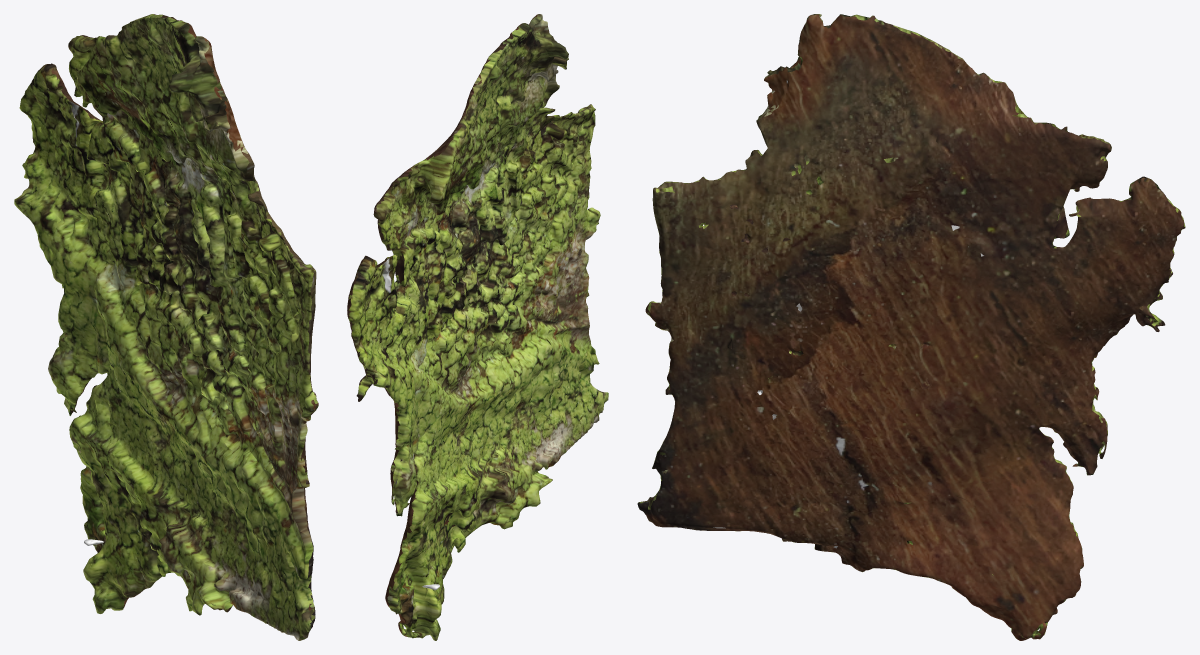
Rendered from Liquen 7.glb.
3 renders of one model, left to right at view 1: azimuth 30°, elevation 25°; view 2: azimuth 150°, elevation 25°; view 3: azimuth 270°, elevation 25°, orthographic. The views are drawn at different scales.
Visible parts, largest first — view 1: tripo_node_2b8c9060; view 2: tripo_node_2b8c9060; view 3: tripo_node_2b8c9060.
Boxes of the visible parts, x1,y1,x2,y2 form: tripo_node_2b8c9060: [14, 14, 318, 640]; tripo_node_2b8c9060: [347, 14, 608, 640]; tripo_node_2b8c9060: [637, 14, 1185, 640].
Bounding box in the file's own units: 0.1224 × 1 × 0.8098.
Materials: 2 (2 with a texture image).
